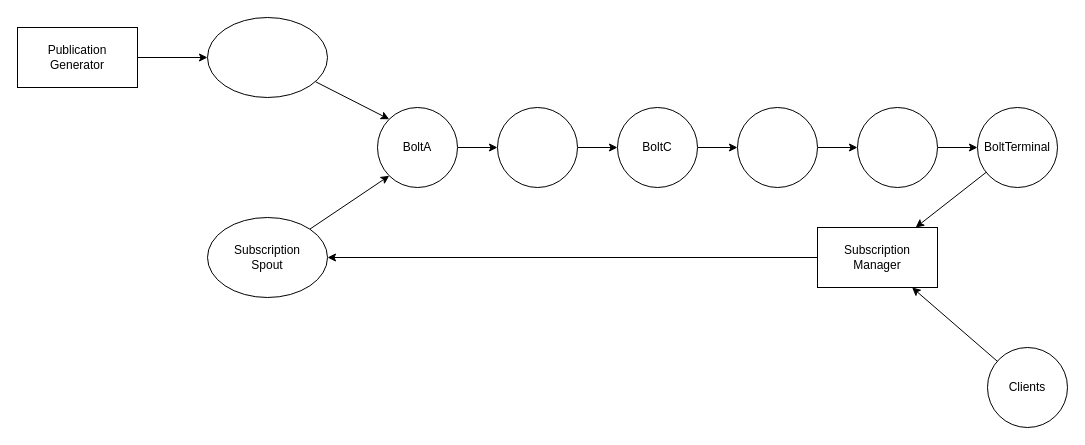
Image size: 1085x445. Some labels were removed from this diagram. The box of each missing label's shape, as (x1, y1, x2, y2) in pixels:
BoltB: (496, 106, 578, 188)
BoltD: (736, 106, 818, 188)
BoltE: (856, 106, 938, 188)
Publication Spout: (206, 16, 328, 98)
